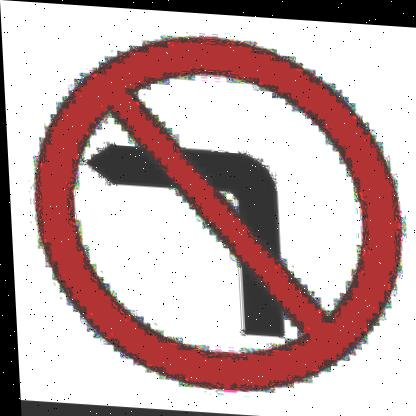No left turn: (24, 18, 404, 400)
